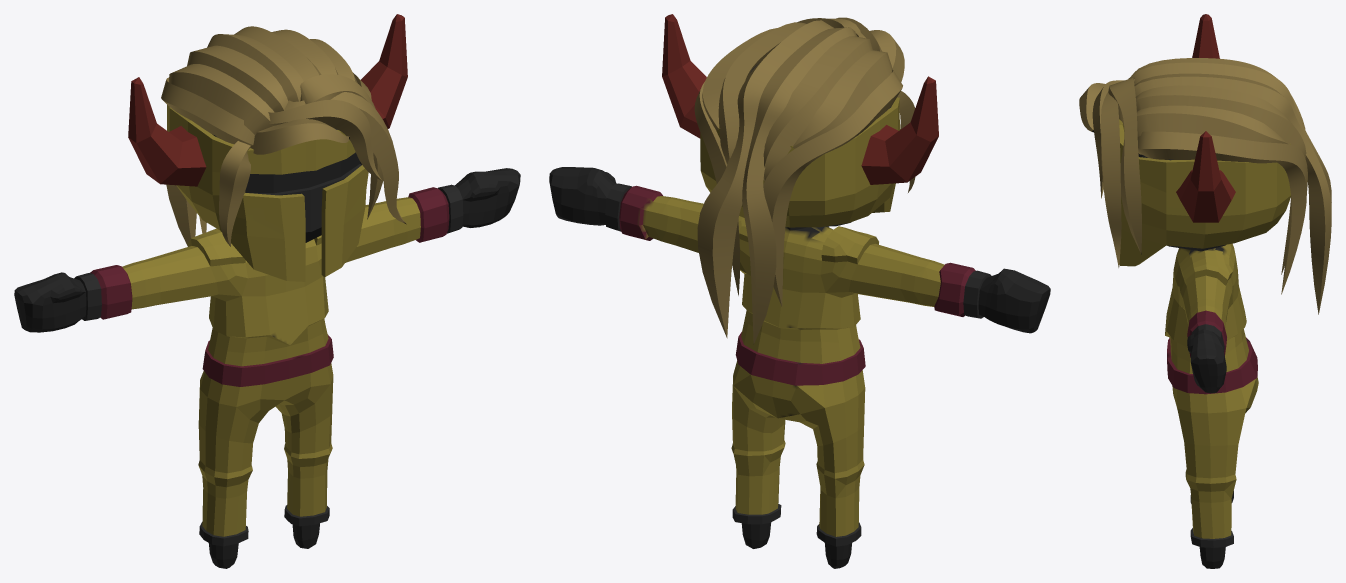
File: Knight_Golden_Female.fbx
The picture shows the model from 3 angles, left to right: view 1: azimuth 30°, elevation 25°; view 2: azimuth 150°, elevation 25°; view 3: azimuth 270°, elevation 25°; orthographic projection. The views are drawn at different scales.
Visible parts, largest first — view 1: Body; view 2: Body; view 3: Body.
Boxes of the visible parts, bbox=[...] form: Body: bbox=[14, 14, 520, 568]; Body: bbox=[549, 14, 1050, 568]; Body: bbox=[1079, 14, 1331, 568].
Size of the model in its own units: 324 by 320 by 153.
1 material, 1 textured.
